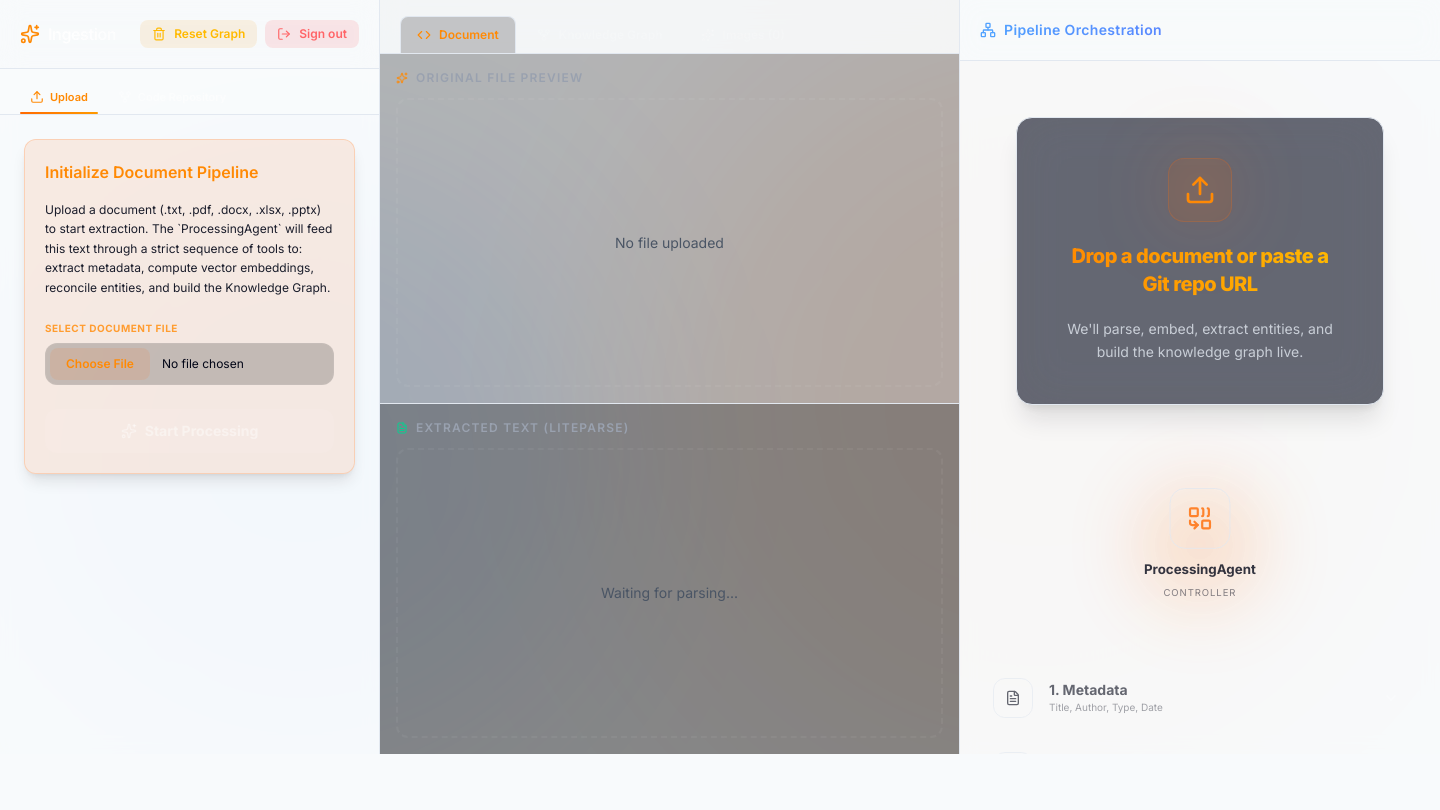
Test: IngestionPage — Code Repository tab › rejects malformed URLs client-side
Click the tab "Code Repository": (172, 97) [104,81,240,114]
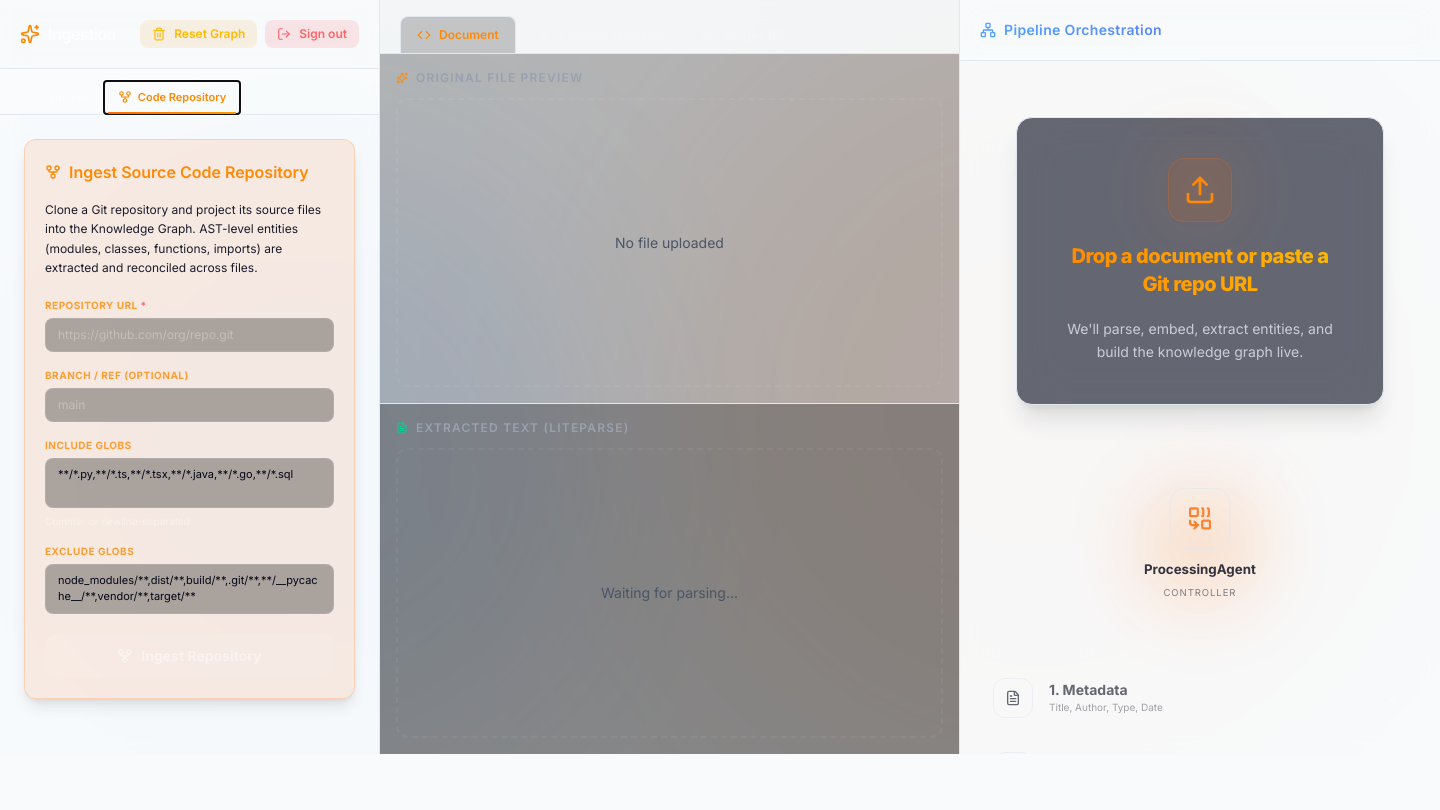
In the field labelled "Repository URL *": (190, 335) [45,318,334,352], type "not-a-url"
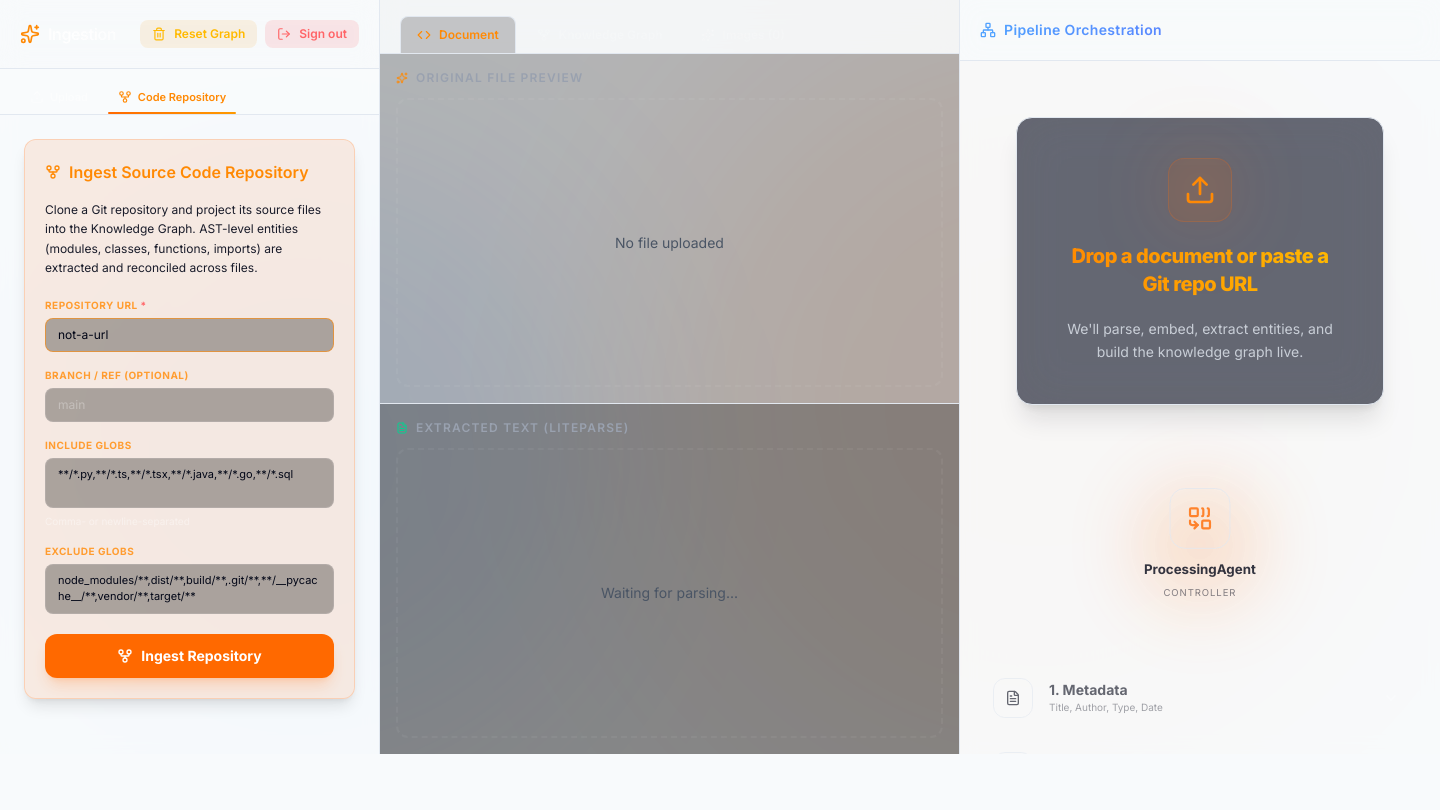
Click the button "Ingest Repository": (190, 656) [45,634,334,678]
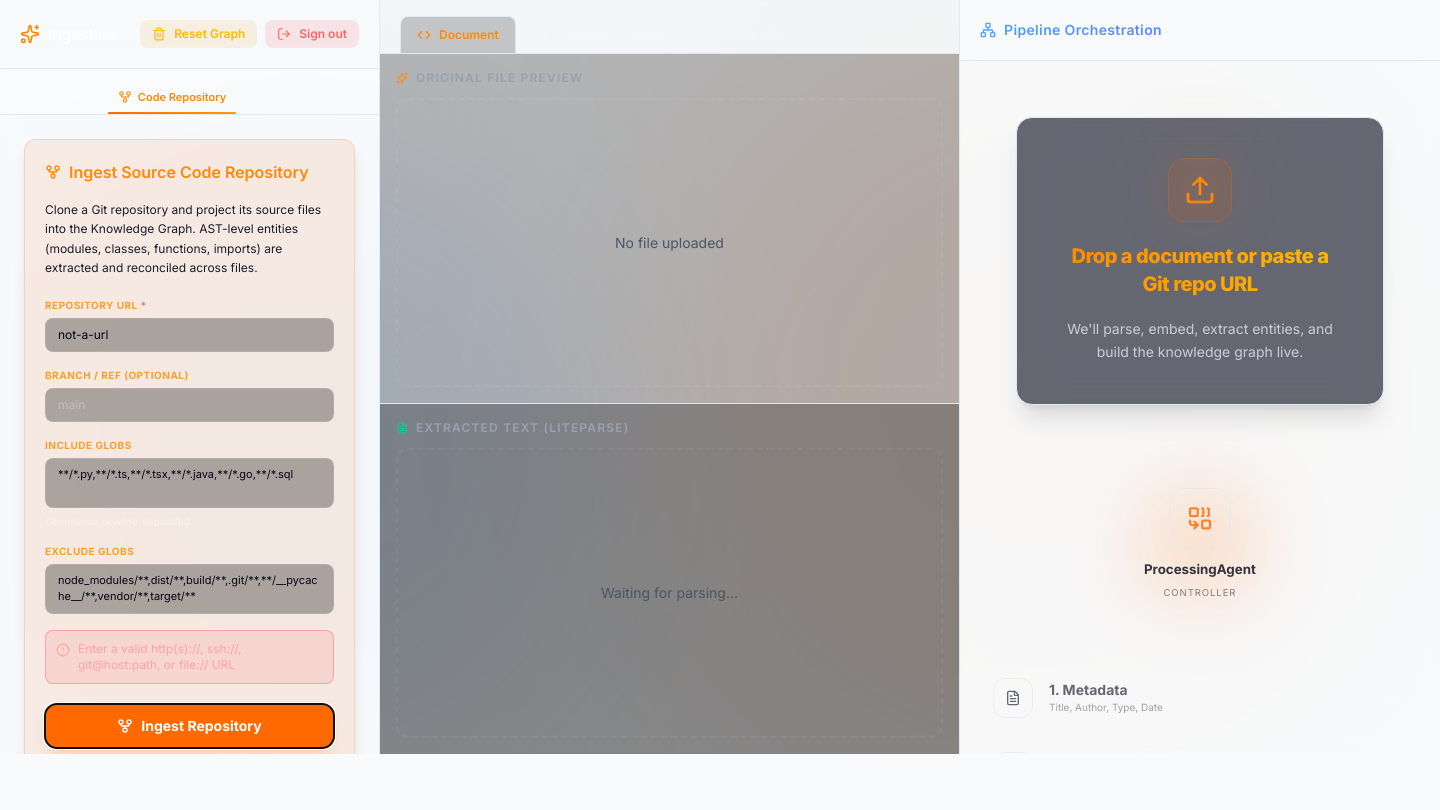
expect the message shows "valid": met, box [78,641,242,672]
